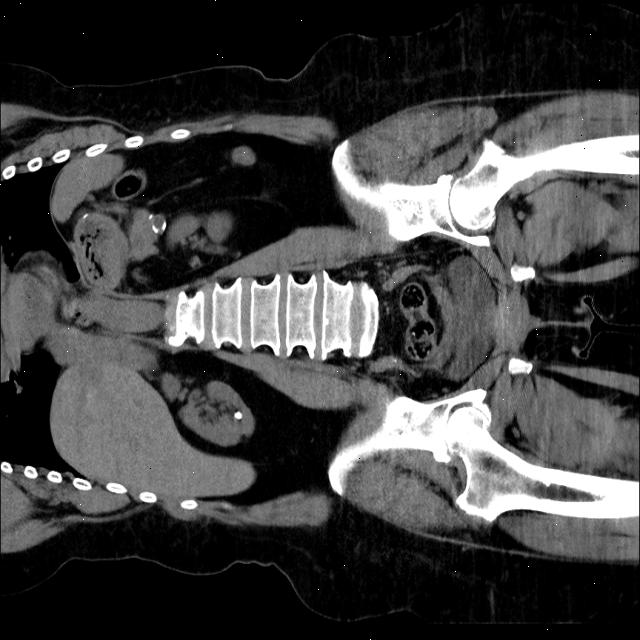kidneystone: (234, 410, 242, 419)
